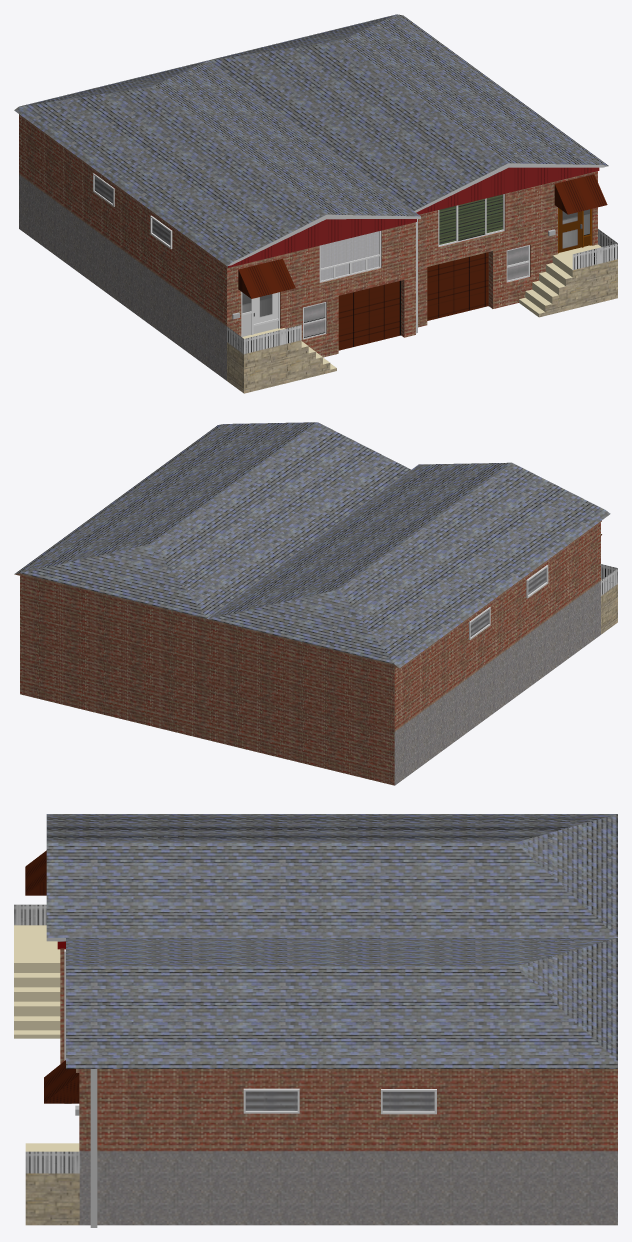
The model's file is Residential House 08.fbx.
The picture shows the model from 3 angles, top to bottom: view 1: azimuth 30°, elevation 25°; view 2: azimuth 150°, elevation 25°; view 3: azimuth 270°, elevation 25°; orthographic projection. The views are drawn at different scales.
Parts seen in each view (by area): view 1: Residential House 08; view 2: Residential House 08; view 3: Residential House 08.
Boxes of the visible parts, x1=… form: Residential House 08: x1=14, y1=14, x2=617, y2=393; Residential House 08: x1=14, y1=422, x2=617, y2=785; Residential House 08: x1=14, y1=814, x2=617, y2=1227.
Size of the model in its own units: 1754 by 633 by 1758.
1 material, 1 textured.
